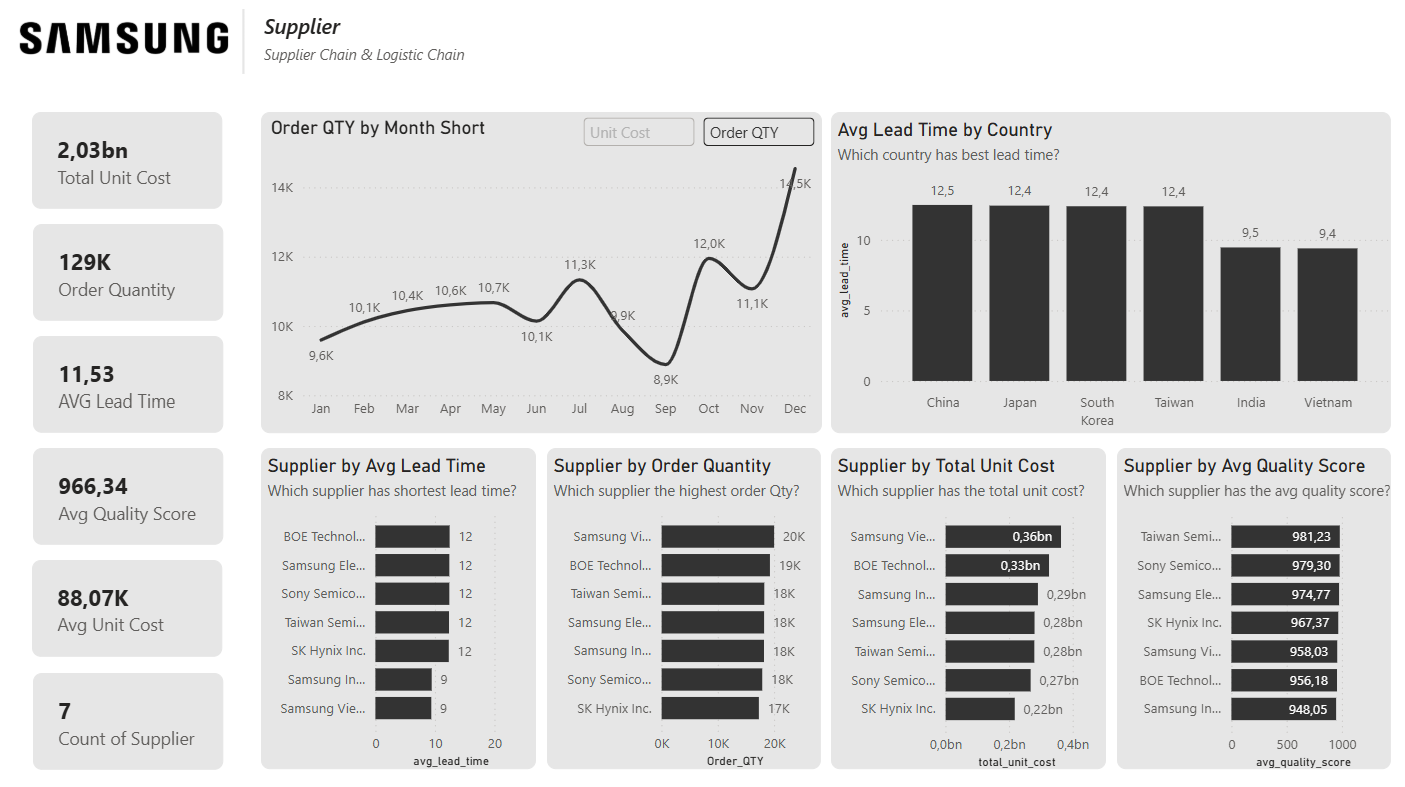

The page's visual inventory and layout, read from the dashboard file:
{"tool":"powerbi","page":{"name":"Supplier","canvas":[1280,720],"ordinal":2},"visuals":[{"type":"shape","title":"Supplier","box":[243.2,12.6,201.3,46.7],"z":0},{"type":"shape","box":[204.3,9.7,38.9,59.3],"z":1000},{"type":"image","box":[5.8,9.7,211.1,52.5],"z":2000},{"type":"cardVisual","fields":{"Data":["measures_table.Order_QTY"]},"box":[32.8,205.7,173.1,88],"z":3000},{"type":"cardVisual","fields":{"Data":["measures_table.avg_lead_time"]},"box":[32.8,307.6,173.1,88],"z":4000},{"type":"cardVisual","fields":{"Data":["fact_procurement.avg_quality_score"]},"box":[32.8,409.4,173.1,88],"z":5000},{"type":"cardVisual","fields":{"Data":["fact_procurement.avg_unit_cost"]},"box":[31.7,511.3,173.1,88],"z":6000},{"type":"cardVisual","fields":{"Data":["CountNonNull(dim_supplier.supplier_id)"]},"box":[32.8,613.2,173.1,88],"z":7000},{"type":"cardVisual","fields":{"Data":["fact_procurement.total_unit_cost"]},"box":[31.7,103.8,173.1,88],"z":8000},{"type":"clusteredBarChart","title":"Supplier by Avg Lead Time","fields":{"Y":["measures_table.avg_lead_time"],"Category":["dim_supplier.supplier_name"]},"box":[239.7,409.2,250.2,291.5],"z":9000},{"type":"clusteredBarChart","title":"Supplier by Order Quantity","fields":{"Y":["measures_table.Order_QTY"],"Category":["dim_supplier.supplier_name"]},"box":[499.6,409.2,249.4,291.5],"z":10000},{"type":"clusteredBarChart","title":"Supplier by Total Unit Cost","fields":{"Y":["fact_procurement.total_unit_cost"],"Category":["dim_supplier.supplier_name"]},"box":[758.6,409.2,250.2,292.4],"z":11000},{"type":"clusteredBarChart","title":"Supplier by Avg Quality Score","fields":{"Y":["fact_procurement.avg_quality_score"],"Category":["dim_supplier.supplier_name"]},"box":[1018.5,409.2,249.4,292.4],"z":12000},{"type":"lineChart","fields":{"Y":["measures_table.Order_QTY"],"Category":["dim_date.month_short"]},"box":[239.7,103.6,510.1,291.5],"z":13000},{"type":"advancedSlicerVisual","fields":{"Values":["cost_qty_supplier.cost_qty_supplier"]},"box":[528.6,103.6,220.4,36.9],"z":14000},{"type":"clusteredColumnChart","title":"Avg Lead Time by Country","fields":{"Category":["dim_supplier.country"],"Y":["measures_table.avg_lead_time"]},"box":[758.6,103.6,509.3,291.5],"z":15000}]}

Visuals, with their boxes in screenshot pixels (x1, y1, x2, y2), scaled from the page's 1280x720 canvas onto the 1405x787 screenshot:
"Supplier" shape: (left=267, top=14, right=488, bottom=65)
shape: (left=224, top=11, right=267, bottom=75)
image: (left=6, top=11, right=238, bottom=68)
cardVisual - measures_table.Order_QTY: (left=36, top=225, right=226, bottom=321)
cardVisual - measures_table.avg_lead_time: (left=36, top=336, right=226, bottom=432)
cardVisual - fact_procurement.avg_quality_score: (left=36, top=447, right=226, bottom=544)
cardVisual - fact_procurement.avg_unit_cost: (left=35, top=559, right=225, bottom=655)
cardVisual - CountNonNull(dim_supplier.supplier_id): (left=36, top=670, right=226, bottom=766)
cardVisual - fact_procurement.total_unit_cost: (left=35, top=113, right=225, bottom=210)
"Supplier by Avg Lead Time" clusteredBarChart: (left=263, top=447, right=538, bottom=766)
"Supplier by Order Quantity" clusteredBarChart: (left=548, top=447, right=822, bottom=766)
"Supplier by Total Unit Cost" clusteredBarChart: (left=833, top=447, right=1107, bottom=767)
"Supplier by Avg Quality Score" clusteredBarChart: (left=1118, top=447, right=1392, bottom=767)
lineChart - measures_table.Order_QTY x dim_date.month_short: (left=263, top=113, right=823, bottom=432)
advancedSlicerVisual - cost_qty_supplier.cost_qty_supplier: (left=580, top=113, right=822, bottom=154)
"Avg Lead Time by Country" clusteredColumnChart: (left=833, top=113, right=1392, bottom=432)
